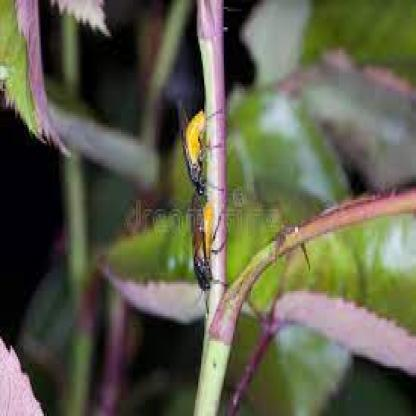sawfly: (179, 186, 230, 306), (172, 93, 228, 201)
